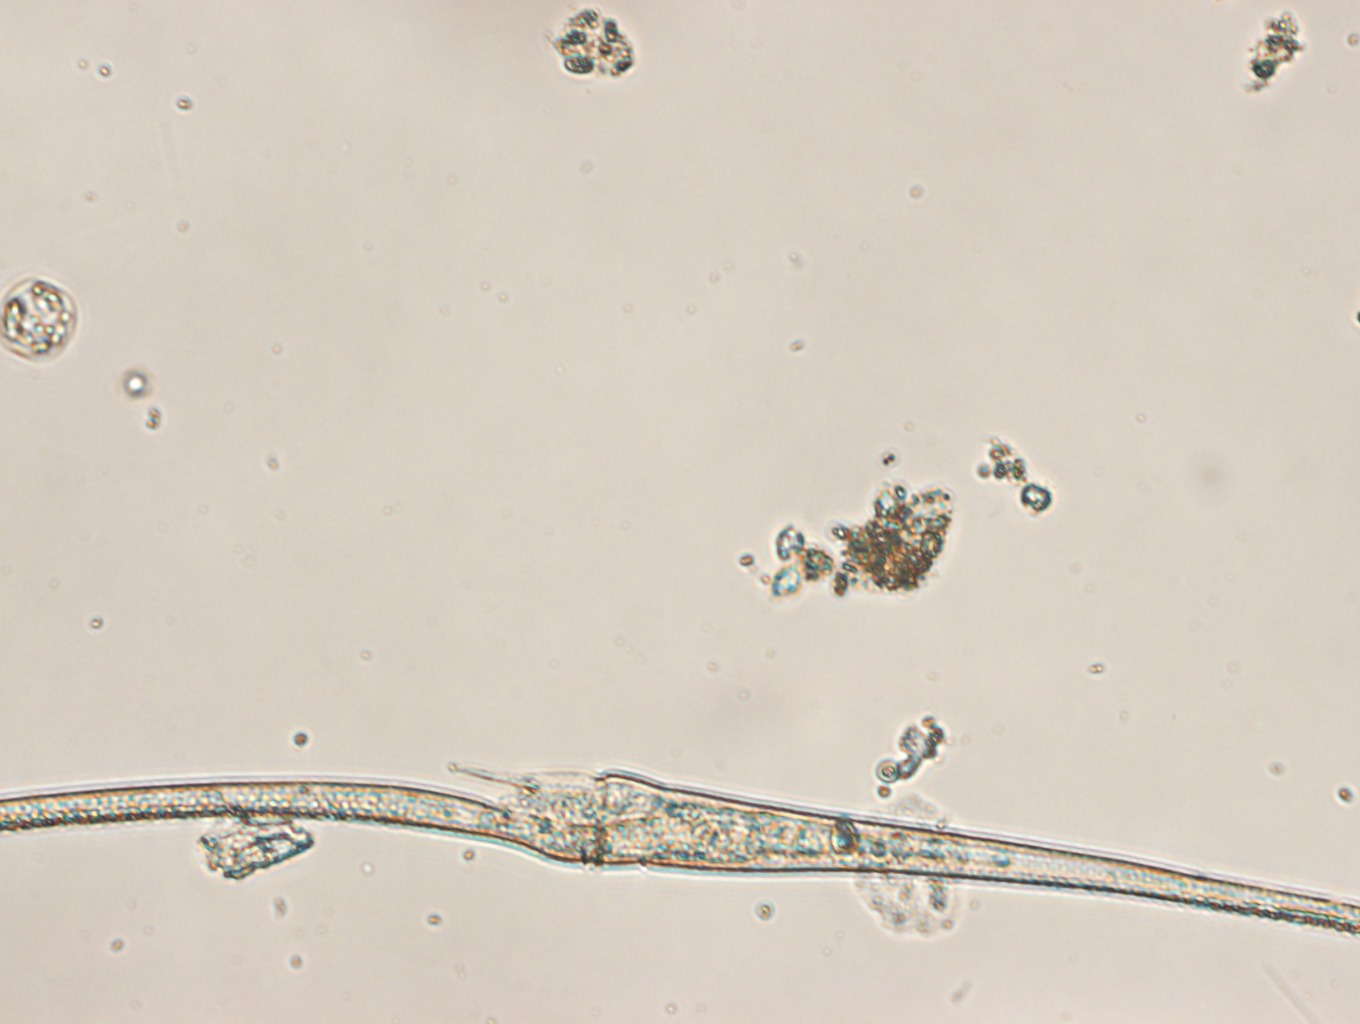ceratium fusus: (1, 770, 1356, 935)
